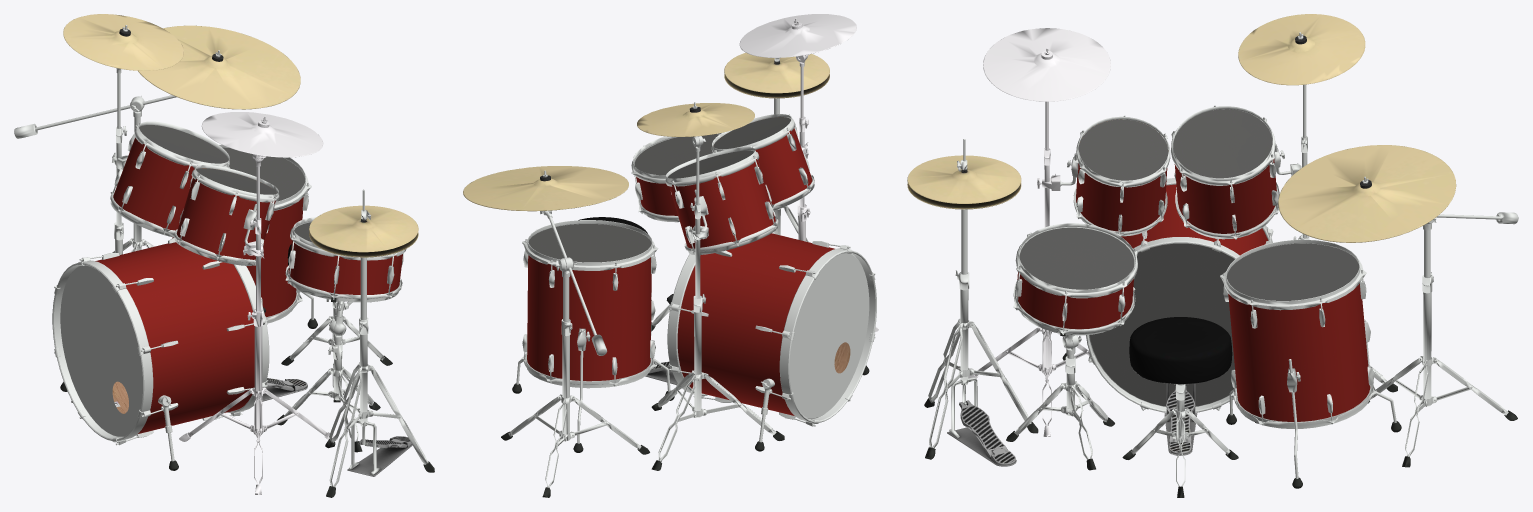
File: batterie_rouge.glb
The picture shows the model from 3 angles, left to right: view 1: azimuth 30°, elevation 25°; view 2: azimuth 150°, elevation 25°; view 3: azimuth 270°, elevation 25°; orthographic projection. The views are drawn at different scales.
Parts seen in each view (by area): view 1: Drumkit01BassDrum01_MI_MetalChromeClean01_0, Drumkit01BassDrum01_MI_DrumKit01_0; view 2: Drumkit01BassDrum01_MI_MetalChromeClean01_0, Drumkit01BassDrum01_MI_DrumKit01_0; view 3: Drumkit01BassDrum01_MI_MetalChromeClean01_0, Drumkit01BassDrum01_MI_DrumKit01_0.
Part boxes in pixels (x1,y1,x2,y2): Drumkit01BassDrum01_MI_MetalChromeClean01_0: [14, 25, 434, 497]; Drumkit01BassDrum01_MI_DrumKit01_0: [63, 14, 418, 476]; Drumkit01BassDrum01_MI_MetalChromeClean01_0: [501, 14, 878, 497]; Drumkit01BassDrum01_MI_DrumKit01_0: [463, 53, 829, 384]; Drumkit01BassDrum01_MI_MetalChromeClean01_0: [924, 28, 1518, 497]; Drumkit01BassDrum01_MI_DrumKit01_0: [907, 14, 1456, 466].
Size of the model in its own units: 2.07 by 2.34 by 3.58.
Materials: 5 (5 with a texture image).
